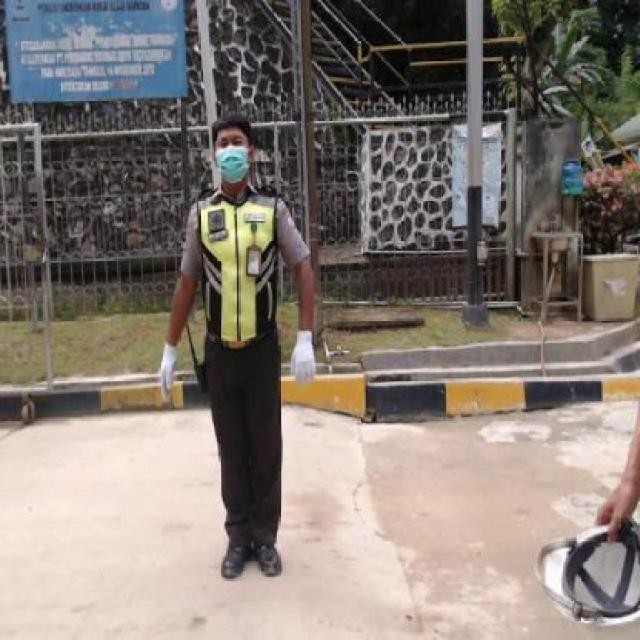Boots: (219, 538, 252, 582), (253, 543, 287, 582)
Gloves: (288, 330, 320, 390), (156, 338, 181, 408)
Helmet: (532, 515, 640, 630)
Mask: (214, 148, 249, 185)
